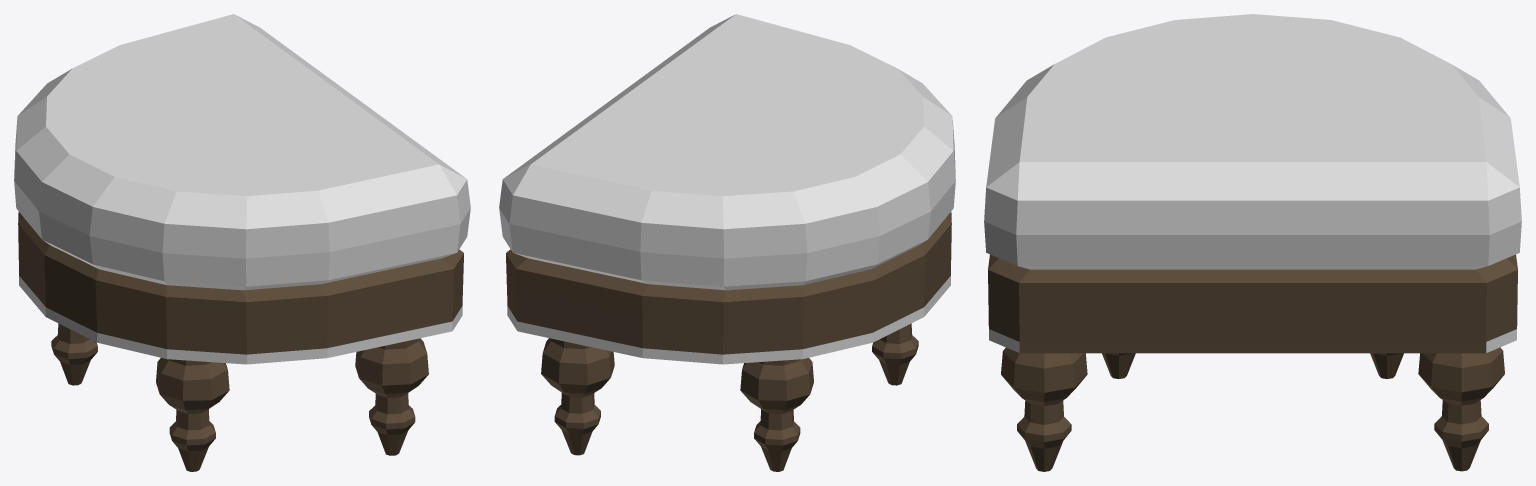
The model's file is SM_Pouf_01.glb.
3 renders of one model, left to right at view 1: azimuth 30°, elevation 25°; view 2: azimuth 150°, elevation 25°; view 3: azimuth 270°, elevation 25°, orthographic. The views are drawn at different scales.
Parts seen in each view (by area): view 1: SM_Pouf_01; view 2: SM_Pouf_01; view 3: SM_Pouf_01.
Part boxes in pixels (bbox=[...]): SM_Pouf_01: bbox=[14, 14, 470, 471]; SM_Pouf_01: bbox=[499, 14, 955, 471]; SM_Pouf_01: bbox=[984, 14, 1521, 471].
Size of the model in its own units: 0.4807 by 0.4032 by 0.6016.
1 material, 1 textured.
